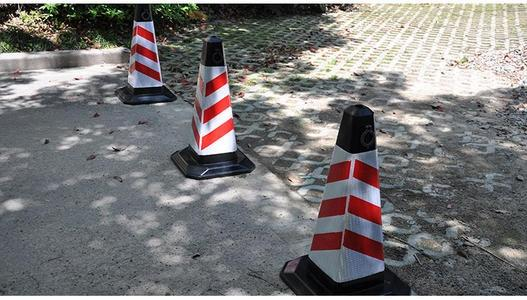cone_barrel: (288, 105, 395, 287), (175, 36, 251, 175), (119, 7, 172, 103)
